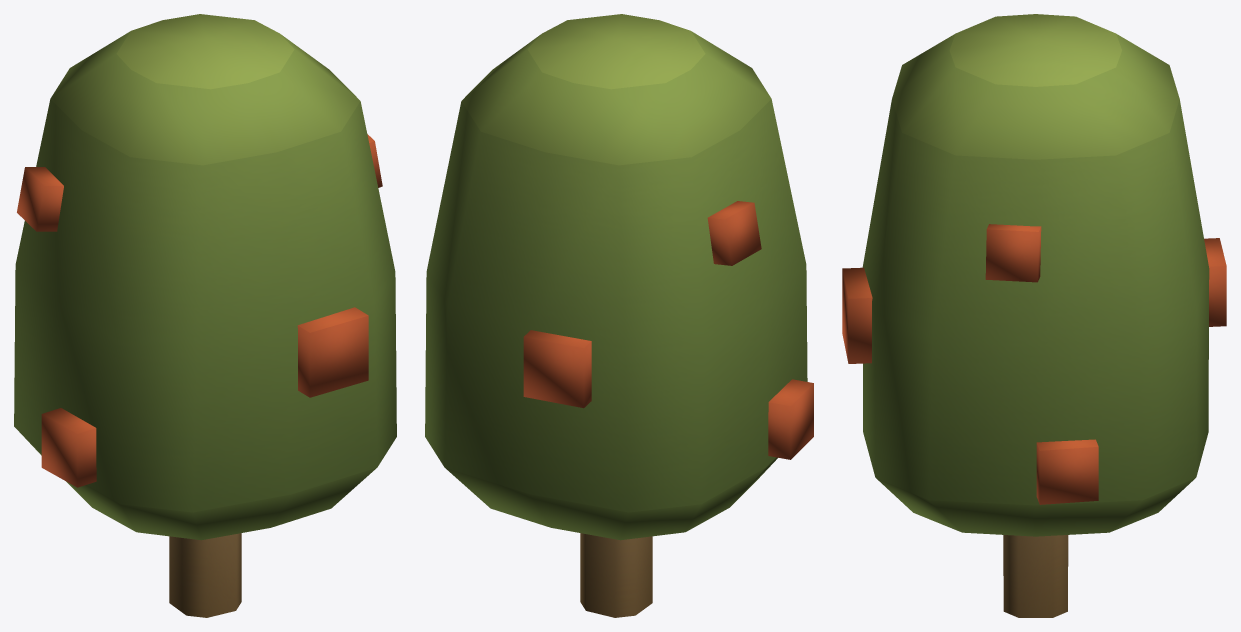
Rendered from bush_plant_big_tall_stem.fbx.
The picture shows the model from 3 angles, left to right: view 1: azimuth 30°, elevation 25°; view 2: azimuth 150°, elevation 25°; view 3: azimuth 270°, elevation 25°; orthographic projection.
Parts seen in each view (by area): view 1: bush_plant_big_tall_stem; view 2: bush_plant_big_tall_stem; view 3: bush_plant_big_tall_stem.
Part boxes in pixels (left/top/right/bottom): bush_plant_big_tall_stem: left=14, top=14, right=396, bottom=617; bush_plant_big_tall_stem: left=425, top=14, right=813, bottom=617; bush_plant_big_tall_stem: left=842, top=14, right=1226, bottom=617.
Size of the model in its own units: 107 by 172 by 106.
